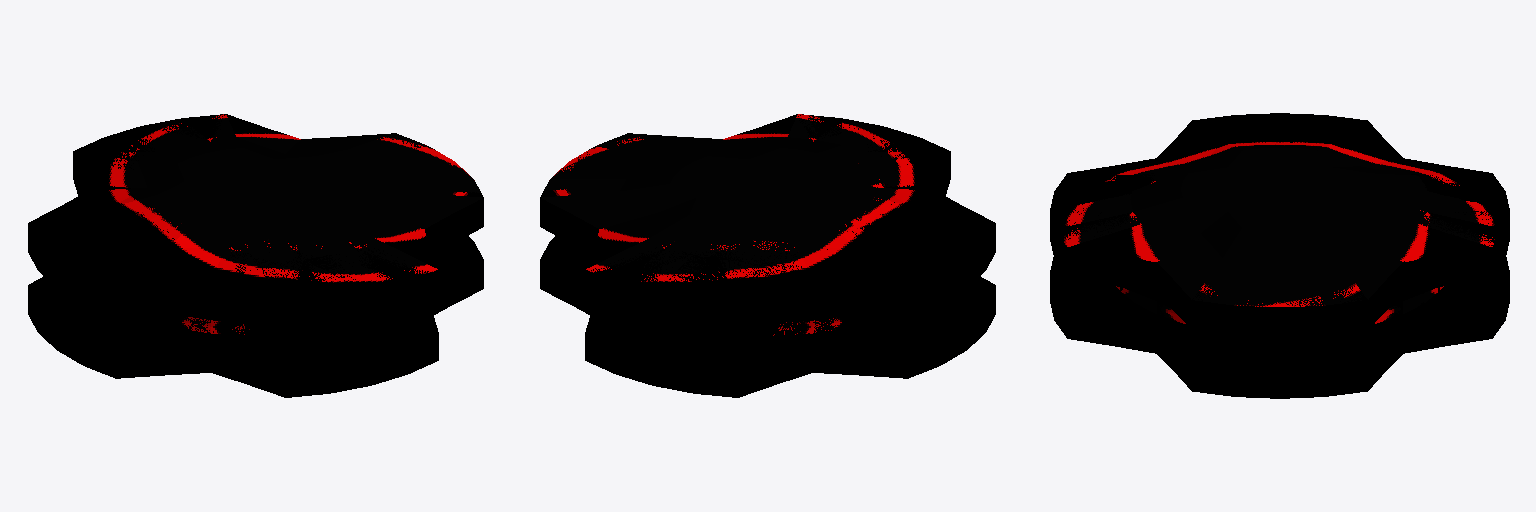
3 renders of one model, left to right at view 1: azimuth 30°, elevation 25°; view 2: azimuth 150°, elevation 25°; view 3: azimuth 270°, elevation 25°, orthographic.
Size of the model in its own units: 11.95 by 3.82 by 11.95.
Materials: 1 (1 with a texture image).